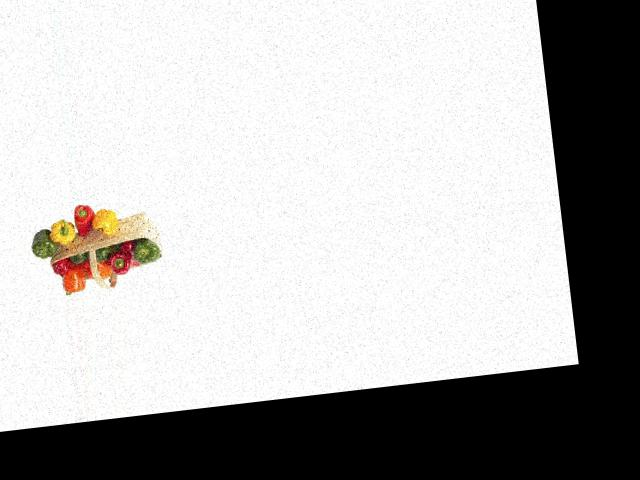bell_pepper: (129, 239, 161, 265)
